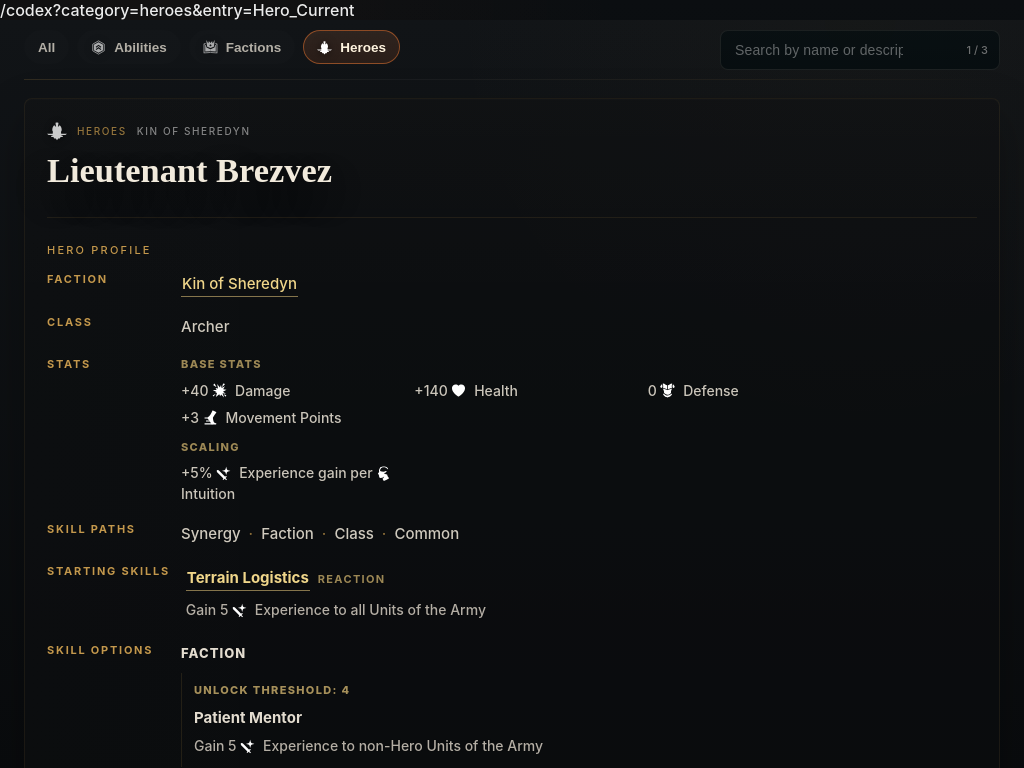
Scenario: CodexPage rich hero enrichment › enriches Hero details with exact origin, skill paths, and default skill ability links
This screenshot has width=1024, height=768.
Check: the heading "Lieutenant Brezvez" is shown, box [47,151,332,189]
Check: the button with aria-label "Open Kin of Sheredyn in Codex" reads "Kin of Sheredyn", box [181,272,298,297]
Hover over the button with aria-label "Open Terrain Logistics in Codex" at (248,579), box [186,566,310,591]
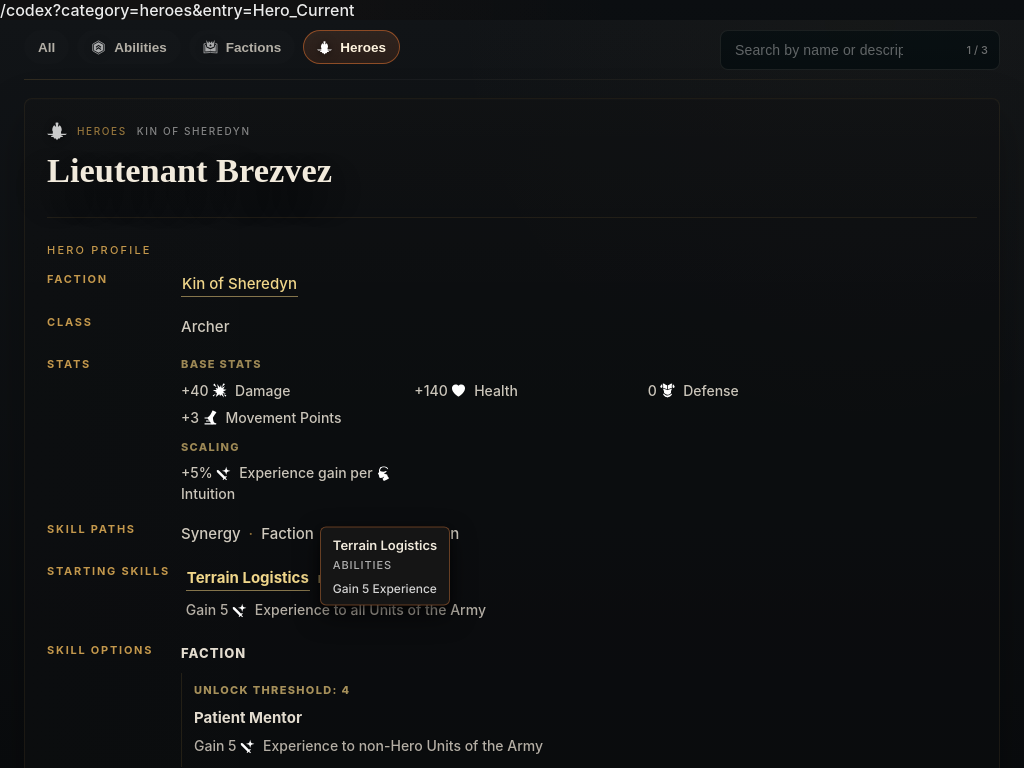
Check: the tooltip shows "Terrain Logistics", box [333,537,437,553]
Move the pointer off the button with aria-label "Open Terrain Logistics in Codex", box [186,566,310,591]
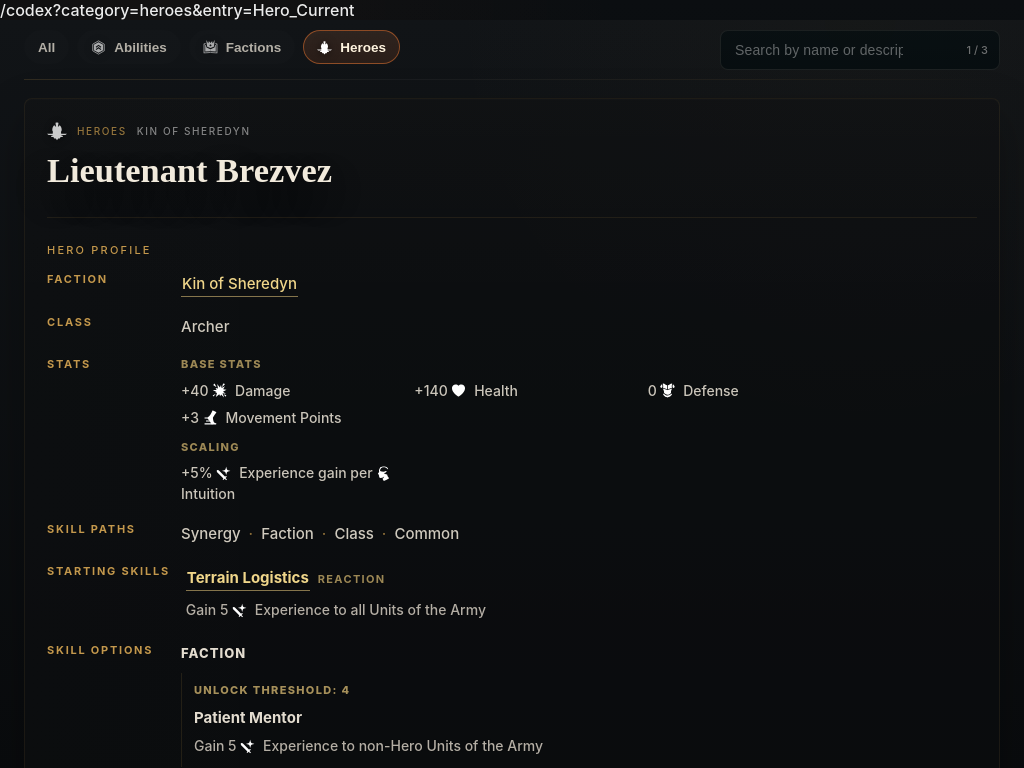
Check: the tooltip "Terrain Logistics Abilities Gain 5 Experience" is gone
Click the button with aria-label "Open Terrain Logistics in Codex" at (248,579), box [186,566,310,591]
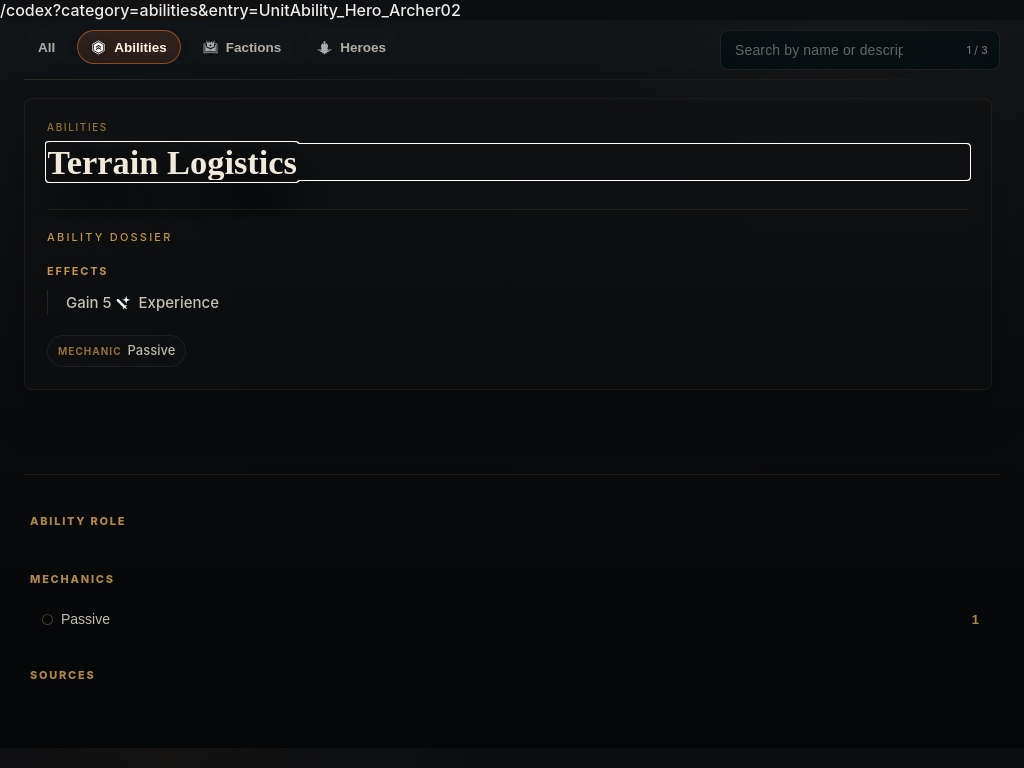
Check: the heading "Terrain Logistics" is shown, box [47,143,297,181]
Check: the text with test id "location-probe" reads "/codex?category=abilities&entry=UnitAbility_Hero_Archer02", box [0,0,461,20]
Click the button "Heroes" at (352,47), box [303,30,400,64]
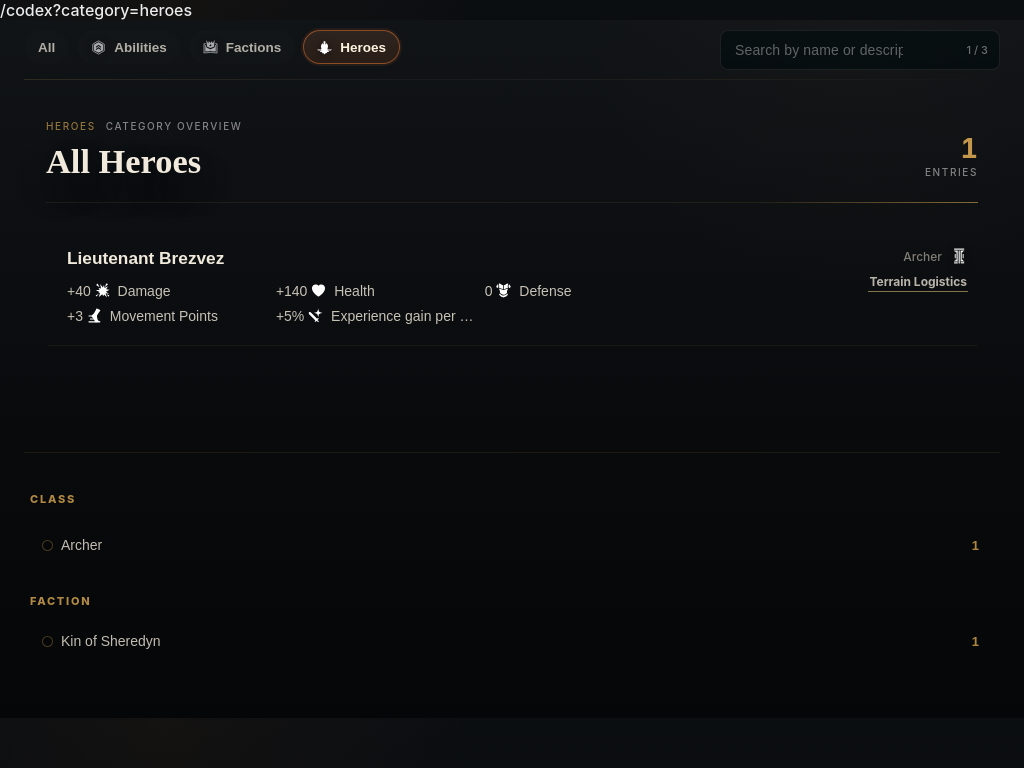
Check: the text "Hero profile" is not shown
Check: the element named "Heroes overview" shows "Lieutenant Brezvez", box [67,247,704,271]
